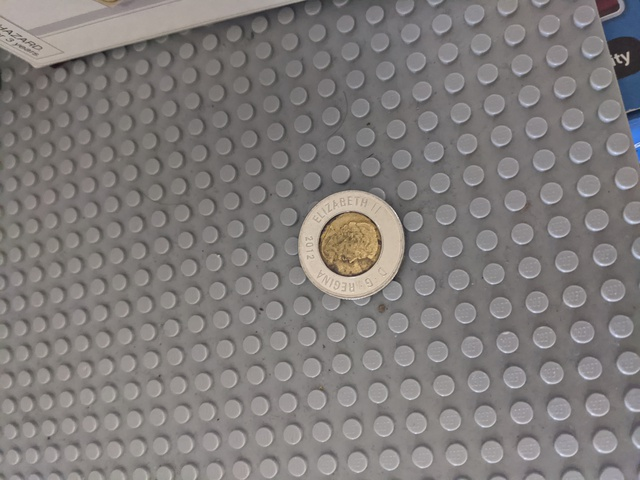twonie: (292, 186, 409, 301)
